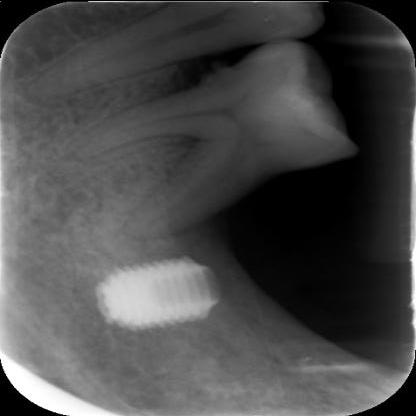Bicon: (95, 256, 224, 324)
